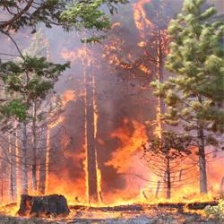fire: (3, 123, 224, 223), (64, 4, 177, 82)
